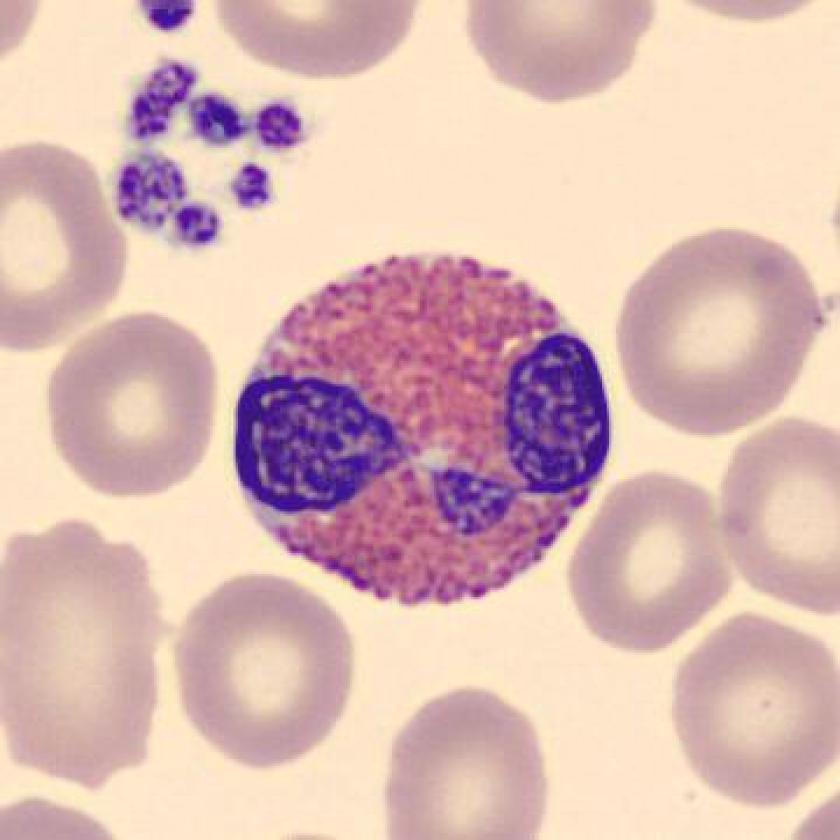eosinophil: (220, 235, 624, 624)
